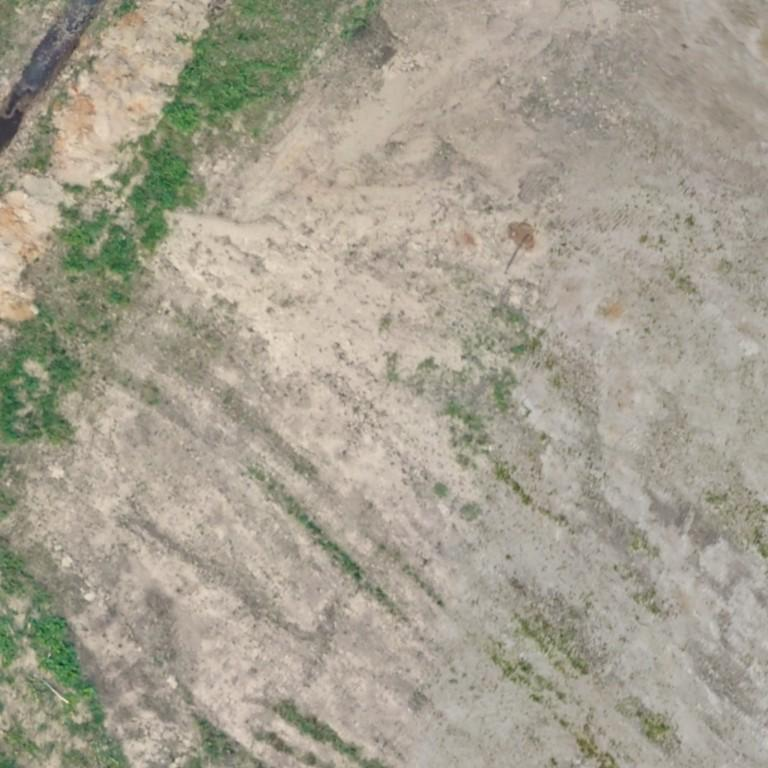hogweed: (162, 48, 248, 130), (130, 149, 186, 243), (33, 616, 80, 685), (99, 226, 136, 273)
